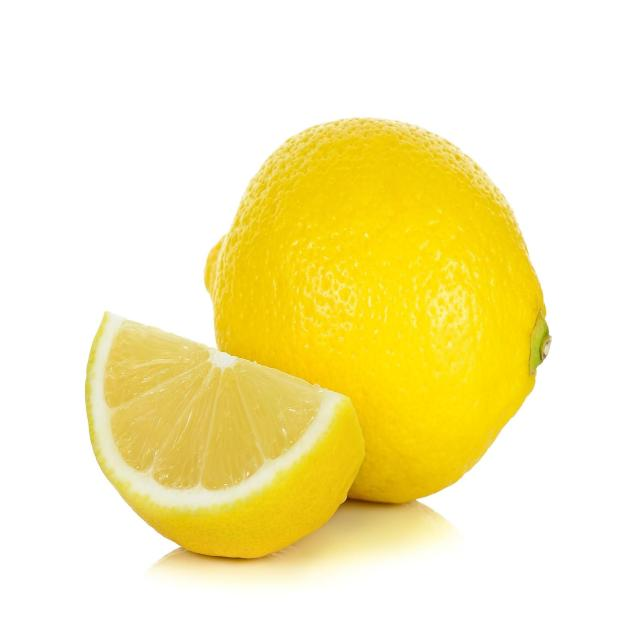lemon: (194, 108, 553, 510), (80, 305, 371, 568)
